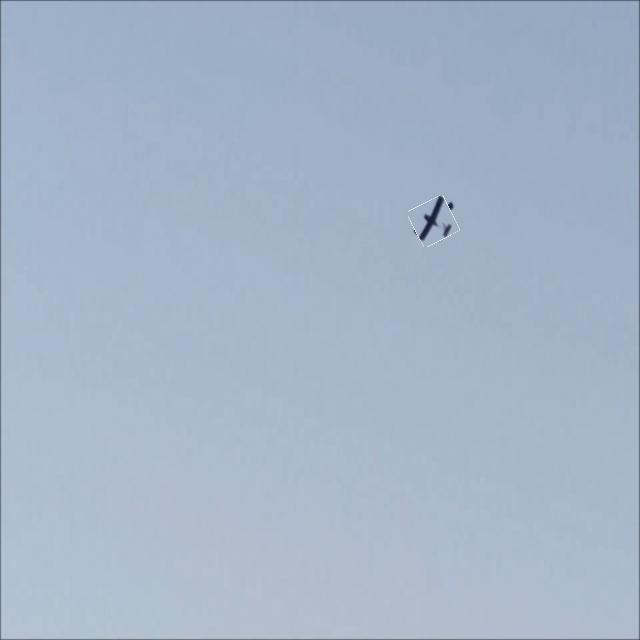UAV: (412, 195, 489, 273)
